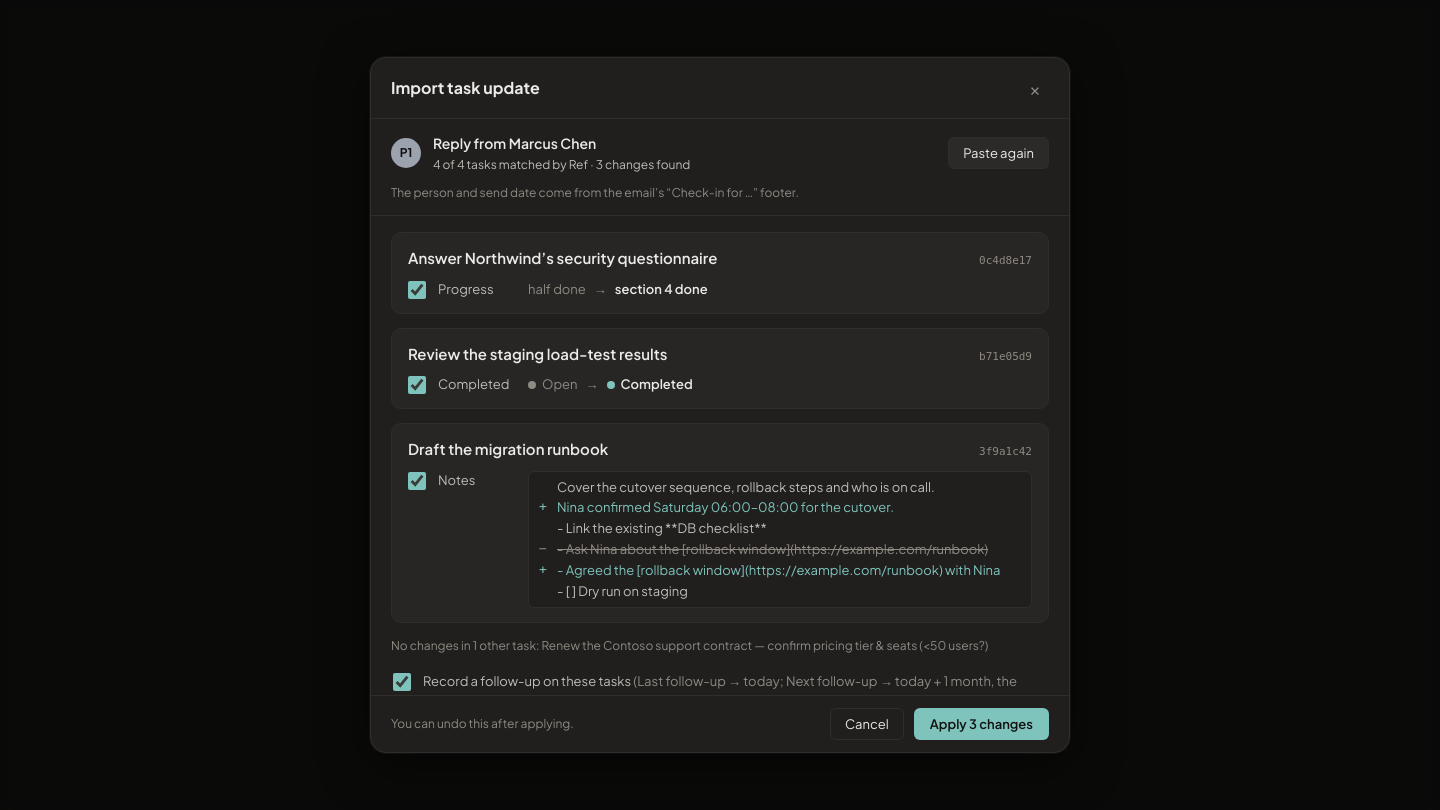
Test: CheckinImportDialog — reading a paste › Paste again goes back to the paste target
Click the button "Paste again" at (999, 153), box top-left (948, 137), bottom-right (1049, 169)
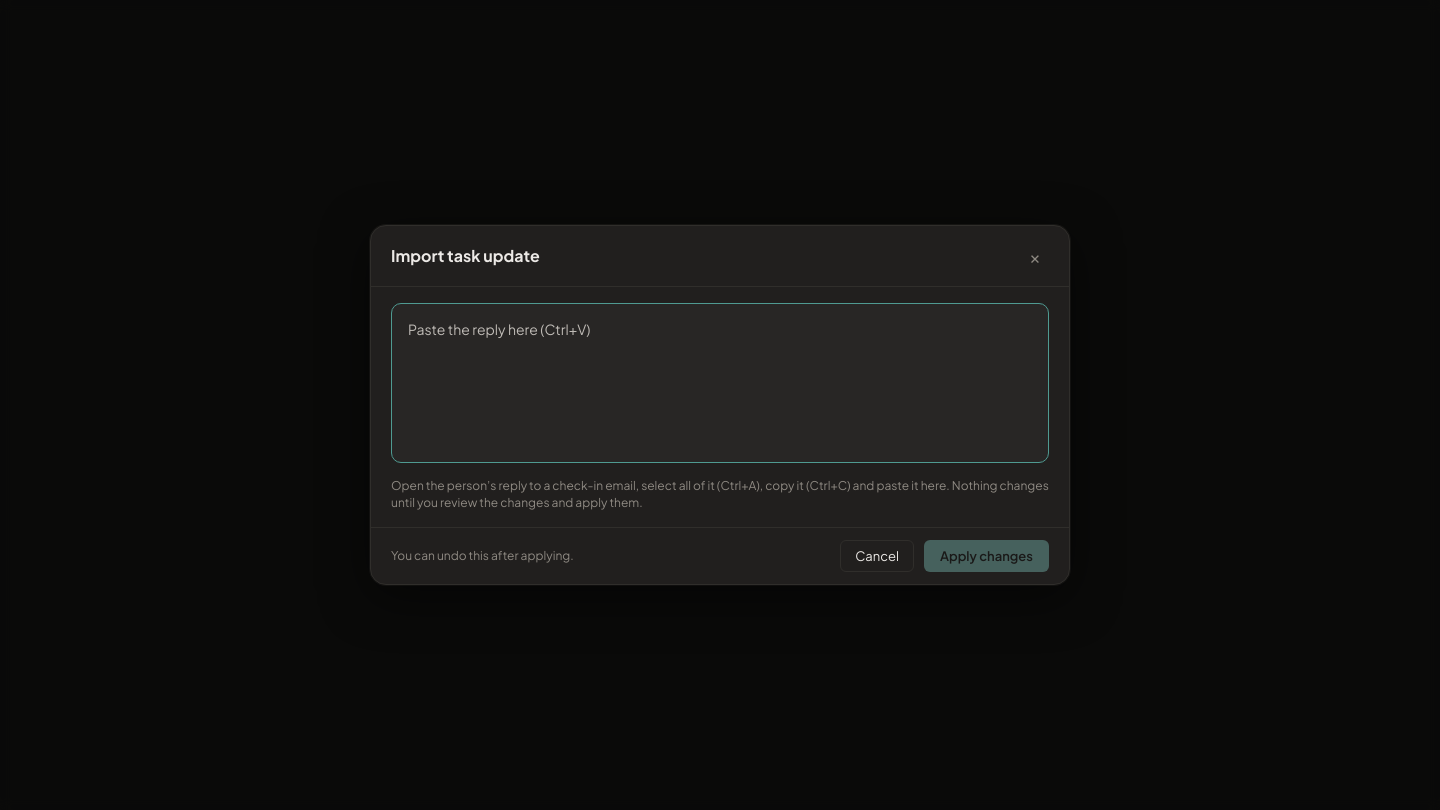
Expected: the text box labelled "Paste the reply here" is shown, top-left (391, 303), bottom-right (1049, 463)
Expected: the button "Apply changes" is disabled, top-left (924, 540), bottom-right (1049, 572)
